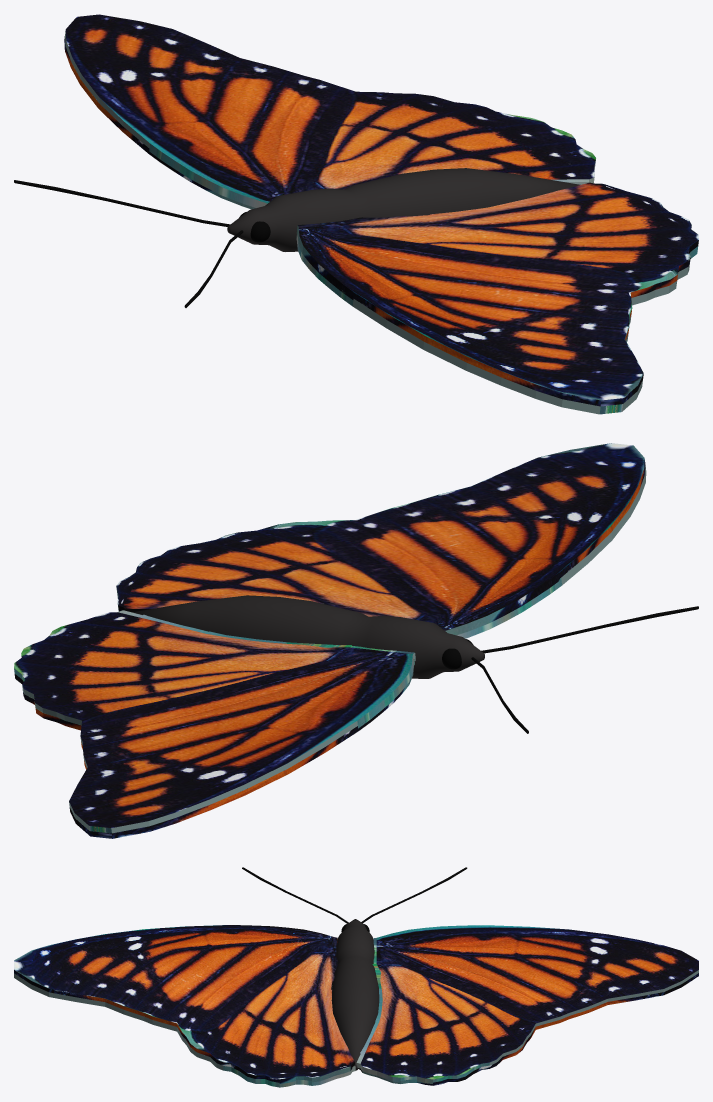
The picture shows the model from 3 angles, top to bottom: view 1: azimuth 30°, elevation 25°; view 2: azimuth 150°, elevation 25°; view 3: azimuth 270°, elevation 25°; orthographic projection. The views are drawn at different scales.
Visible parts, largest first — view 1: lw.001, rw.001, body, lw, rw, moustache.001; view 2: rw.001, lw.001, body, rw, lw, moustache; view 3: rw.001, lw.001, body, lw, rw.
Boxes of the visible parts, x1,y1,x2,y2 form: lw.001: (296,182,698,406); rw.001: (65,14,595,207); body: (227,168,580,251); lw: (296,234,698,414); rw: (64,36,594,209); moustache.001: (14,180,230,226); rw.001: (14,610,415,833); lw.001: (116,443,645,635); body: (132,595,484,678); rw: (14,659,414,838); lw: (117,465,646,638); moustache: (481,606,698,653); rw.001: (356,925,698,1083); lw.001: (14,925,354,1083); body: (331,919,379,1070); lw: (14,973,355,1087); rw: (358,973,698,1085).
Size of the model in its own units: 1046 by 158 by 1787.
4 materials, 1 textured.
